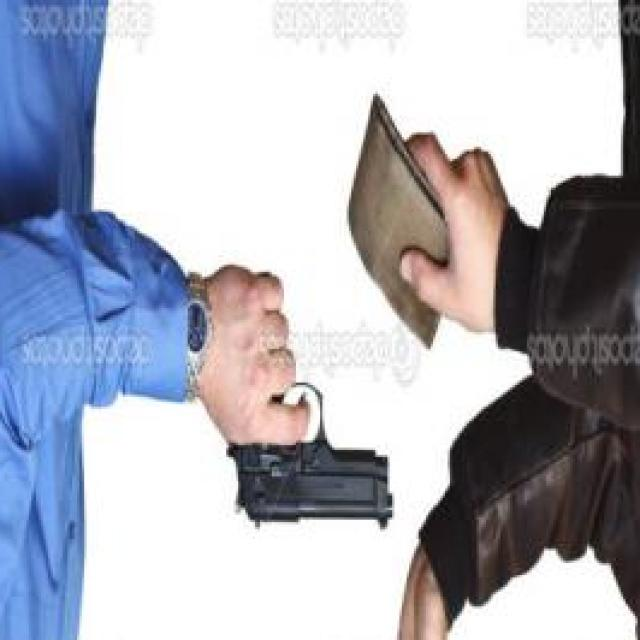pistol: (214, 254, 395, 539)
